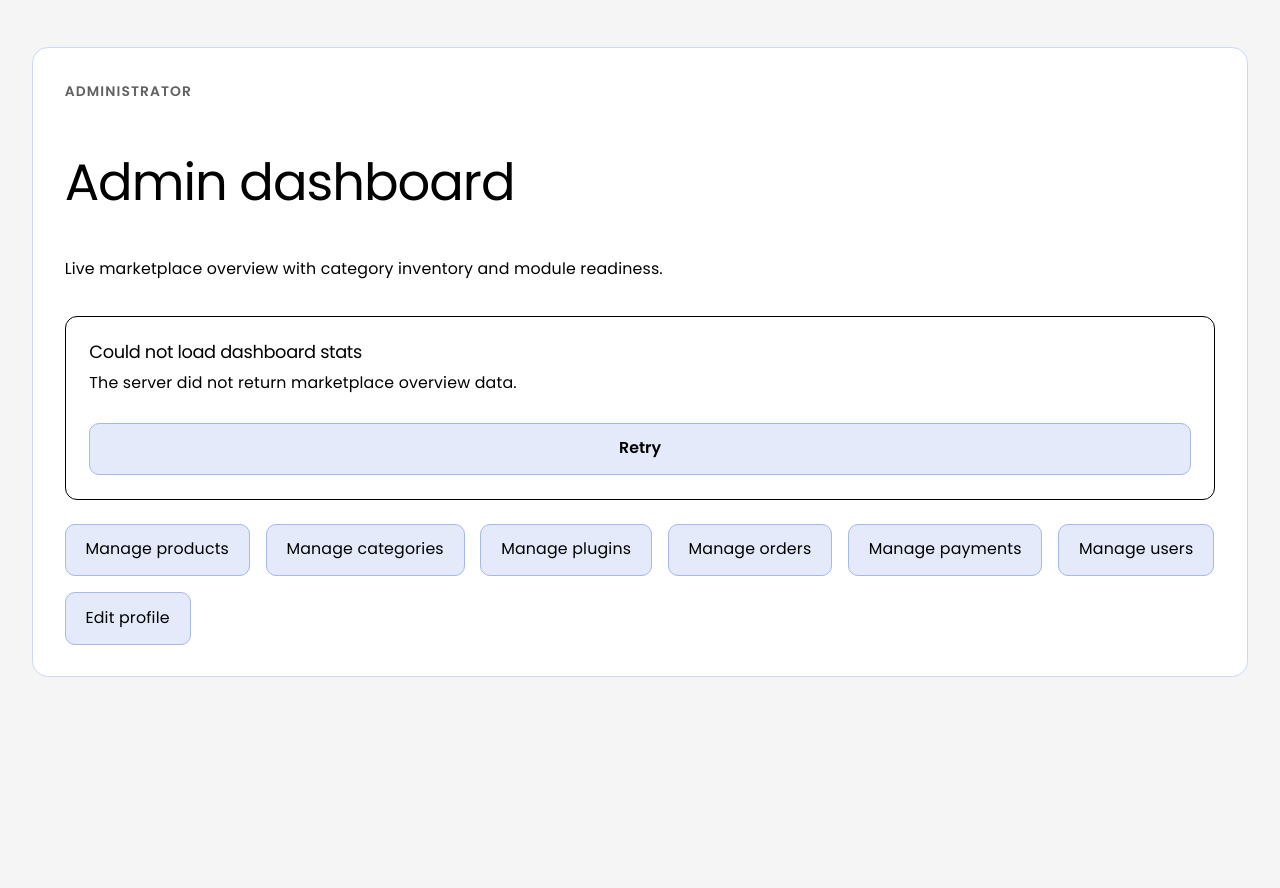
Test: AdminDashboardPage › retries when stats fail to load
Check: the heading "Could not load dashboard stats" is shown, box [89, 339, 362, 364]
Click the button "Retry" at (640, 449), box [89, 422, 1191, 475]
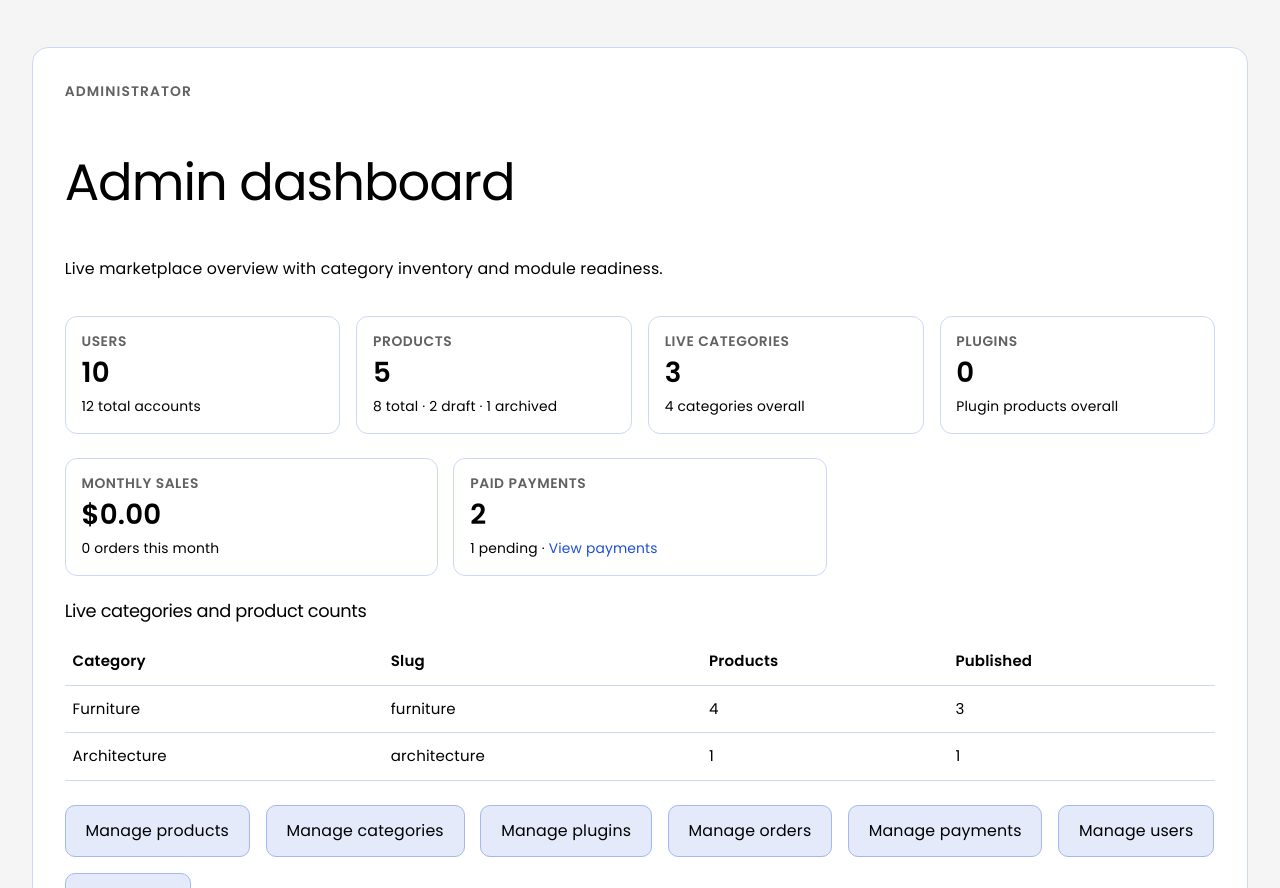
Check: the text "Furniture" is shown, box [65, 685, 383, 733]
